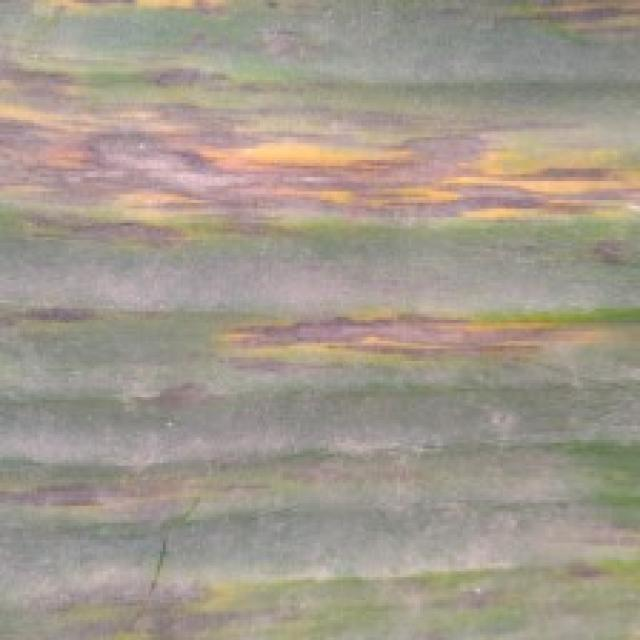Early_leaf_spot: (0, 46, 637, 251), (197, 278, 628, 392), (0, 531, 271, 639), (0, 0, 640, 43), (0, 454, 243, 527), (10, 264, 110, 345)
